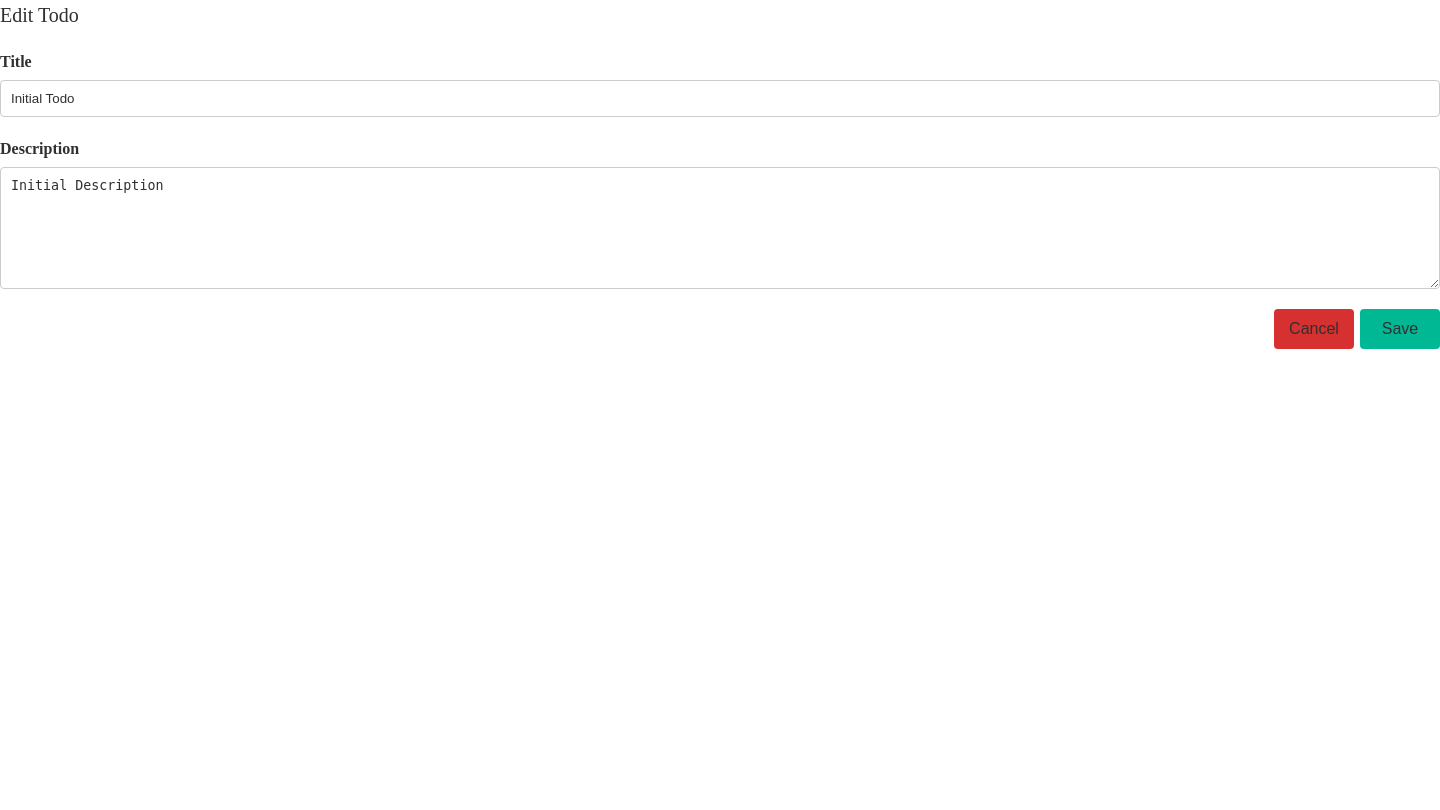
Test: TodoEditForm 컴포넌트 › Cancel 버튼 클릭 시 변경사항이 있으면 AlertDialog가 표시되어야 합니다
Replace the text in the field with placeholder "Enter todo title" with "Changed Todo" at (720, 98), box [0,80,1439,117]
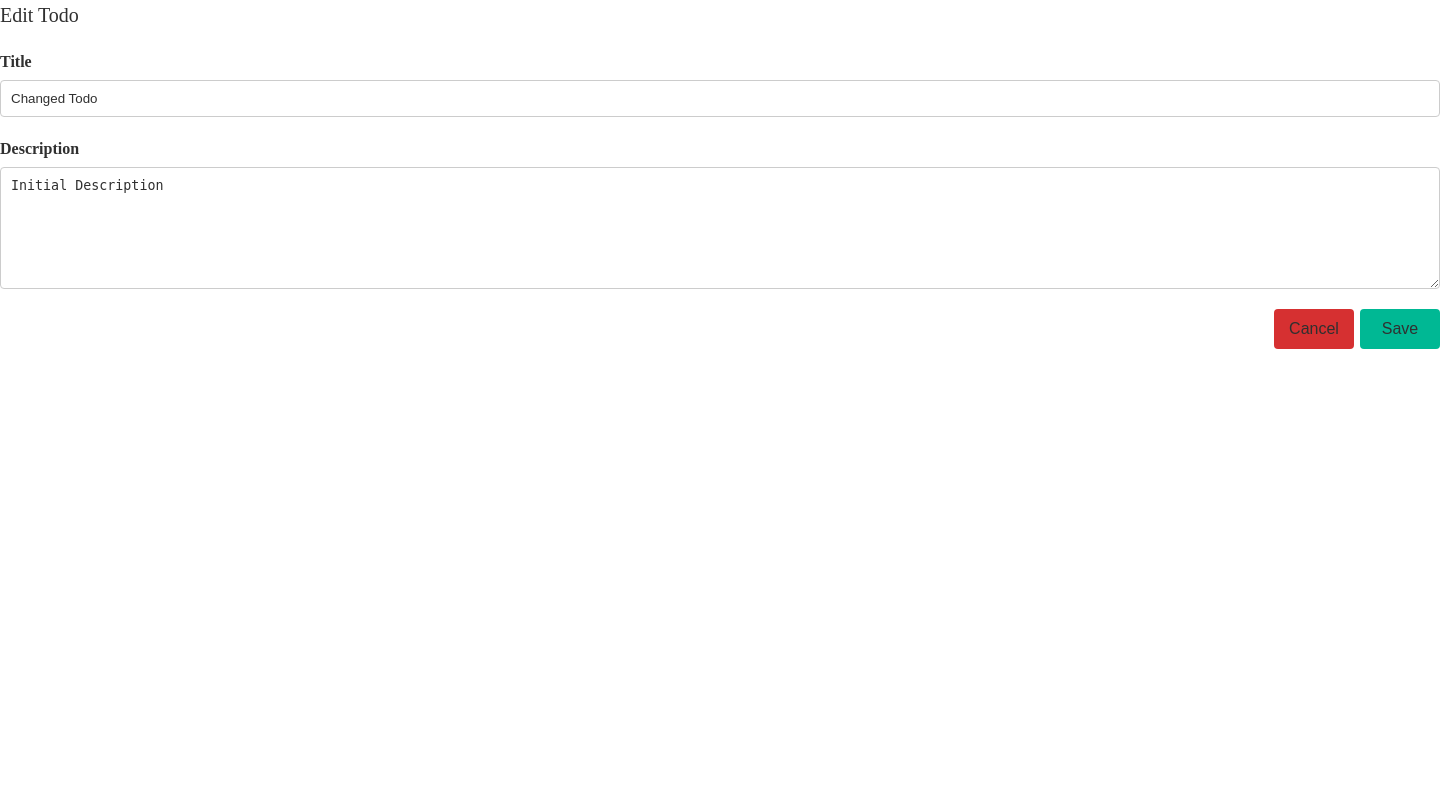
Click the button "Cancel" at (1314, 329), box [1274,309,1354,349]
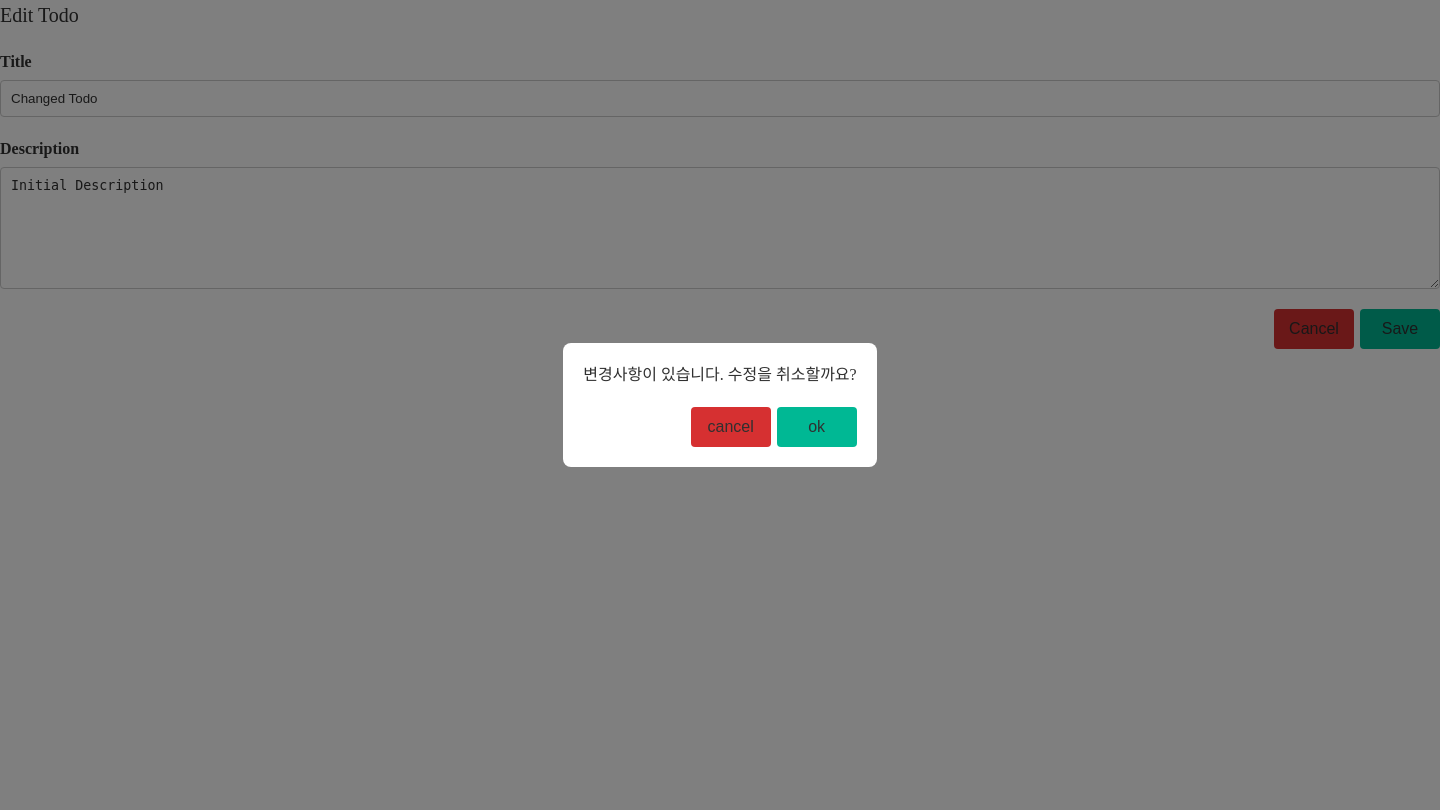
Expected: the text "변경사항이 있습니다. 수정을 취소할까요?" is shown, [583,363,857,387]
